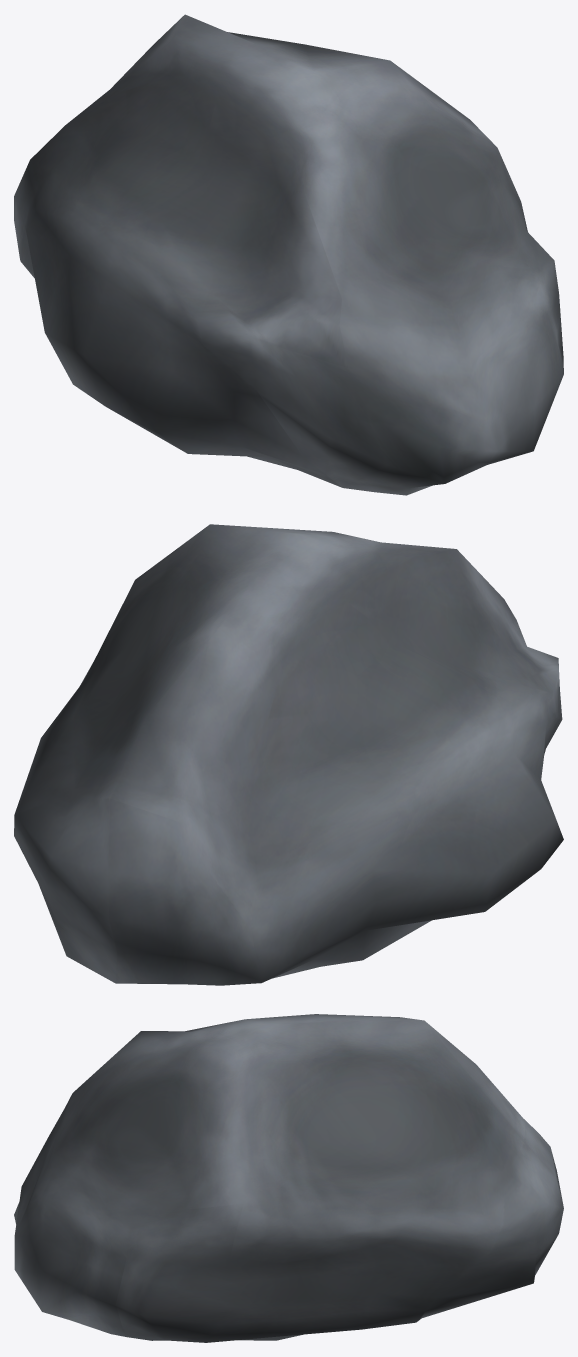
The model's file is Rock 01.fbx.
3 renders of one model, top to bottom at view 1: azimuth 30°, elevation 25°; view 2: azimuth 150°, elevation 25°; view 3: azimuth 270°, elevation 25°, orthographic. The views are drawn at different scales.
Parts seen in each view (by area): view 1: Rock 01; view 2: Rock 01; view 3: Rock 01.
Part boxes in pixels (x1,y1,x2,y2): Rock 01: [14, 14, 563, 495]; Rock 01: [14, 524, 563, 985]; Rock 01: [14, 1014, 563, 1342].
Bounding box in the file's own units: 2.62 × 2.07 × 3.65.
1 material, 1 textured.
